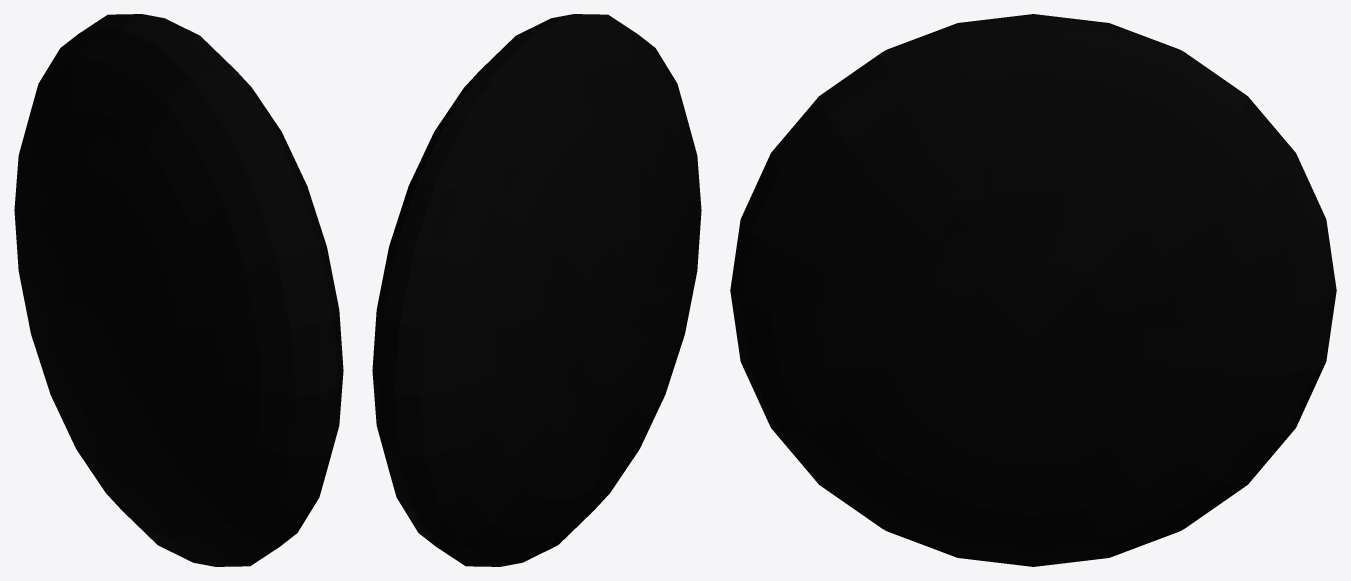
The model's file is proj_RB01.fbx.
3 views of the same model, side by side, from view 1: azimuth 30°, elevation 25°; view 2: azimuth 150°, elevation 25°; view 3: azimuth 270°, elevation 25° (orthographic). The views are drawn at different scales.
Visible parts, largest first — view 1: sphere_24pl (1); view 2: sphere_24pl (1); view 3: sphere_24pl (1).
Boxes of the visible parts, x1,y1,x2,y2 form: sphere_24pl (1): (14, 14, 343, 566); sphere_24pl (1): (372, 14, 701, 566); sphere_24pl (1): (730, 14, 1336, 566).
Size of the model in its own units: 0.5 by 1.5 by 1.5.
2 materials, 2 textured.
